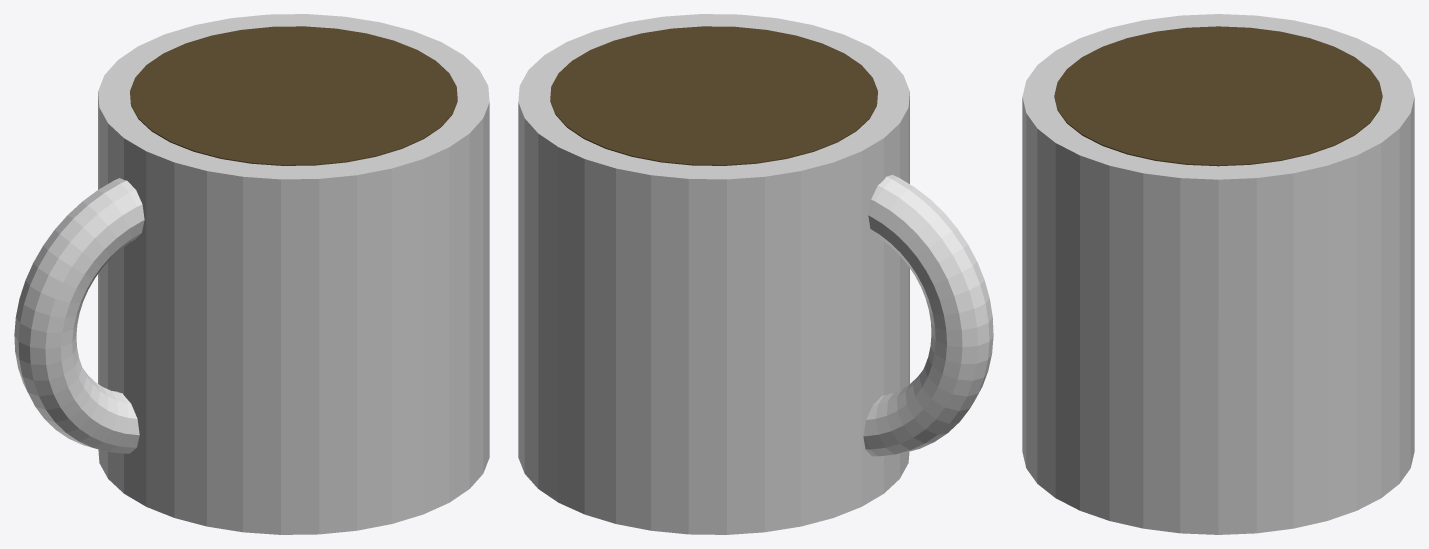
The model's file is coffeeee.fbx.
3 views of the same model, side by side, from view 1: azimuth 30°, elevation 25°; view 2: azimuth 150°, elevation 25°; view 3: azimuth 270°, elevation 25° (orthographic).
Visible parts, largest first — view 1: Cylinder, Cylinder.001, Torus; view 2: Cylinder, Cylinder.001, Torus; view 3: Cylinder, Cylinder.001.
Part boxes in pixels (x1=…): Cylinder: x1=98, y1=14, x2=489, y2=534; Cylinder.001: x1=130, y1=26, x2=457, y2=165; Torus: x1=14, y1=178, x2=144, y2=453; Cylinder: x1=518, y1=14, x2=909, y2=534; Cylinder.001: x1=550, y1=26, x2=877, y2=165; Torus: x1=863, y1=175, x2=993, y2=456; Cylinder: x1=1022, y1=14, x2=1414, y2=534; Cylinder.001: x1=1054, y1=26, x2=1382, y2=166.
Bounding box in the file's own units: 262 × 201 × 200.
